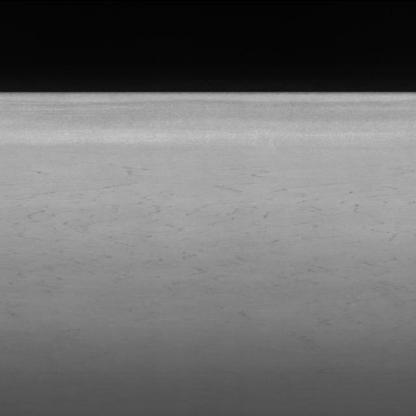silk_spot: (22, 160, 336, 288)
